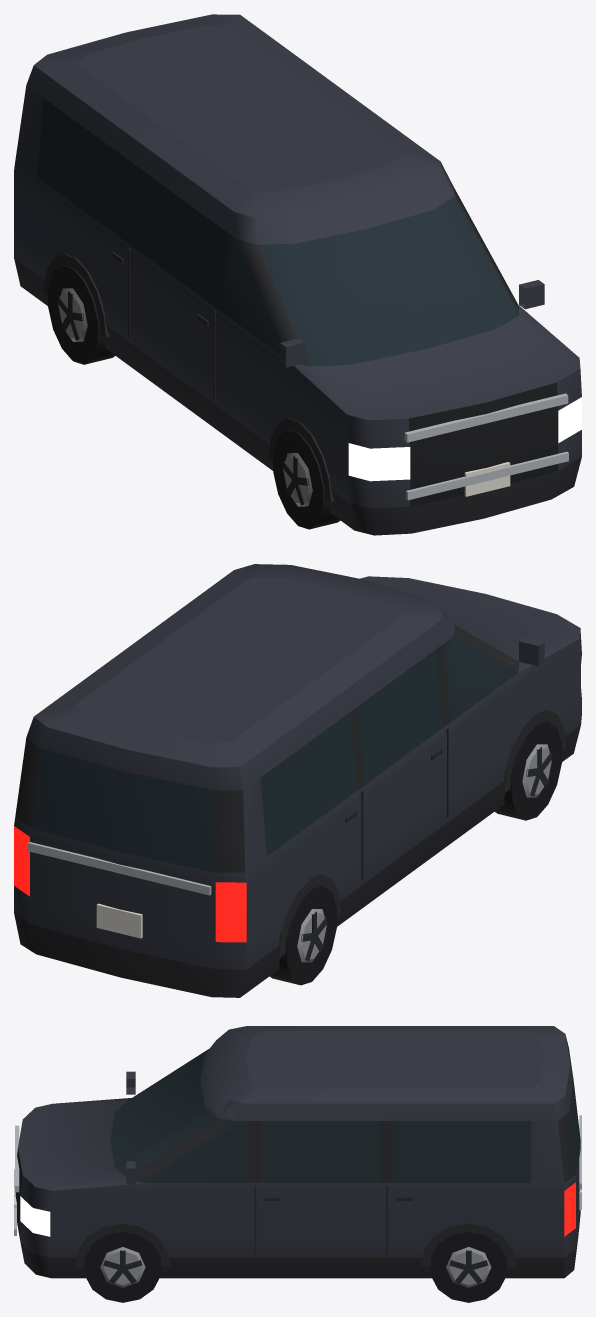
The model's file is tokyo_minivan.glb.
3 renders of one model, top to bottom at view 1: azimuth 30°, elevation 25°; view 2: azimuth 150°, elevation 25°; view 3: azimuth 270°, elevation 25°, orthographic. The views are drawn at different scales.
Parts seen in each view (by area): view 1: tokyo_minivan; view 2: tokyo_minivan; view 3: tokyo_minivan.
Part boxes in pixels (box(x1,y1,x2,y2)): tokyo_minivan: box(14, 14, 581, 535); tokyo_minivan: box(14, 564, 581, 997); tokyo_minivan: box(14, 1026, 581, 1302).
Bounding box in the file's own units: 1.99 × 1.9 × 4.93.
1 material, 1 textured.
